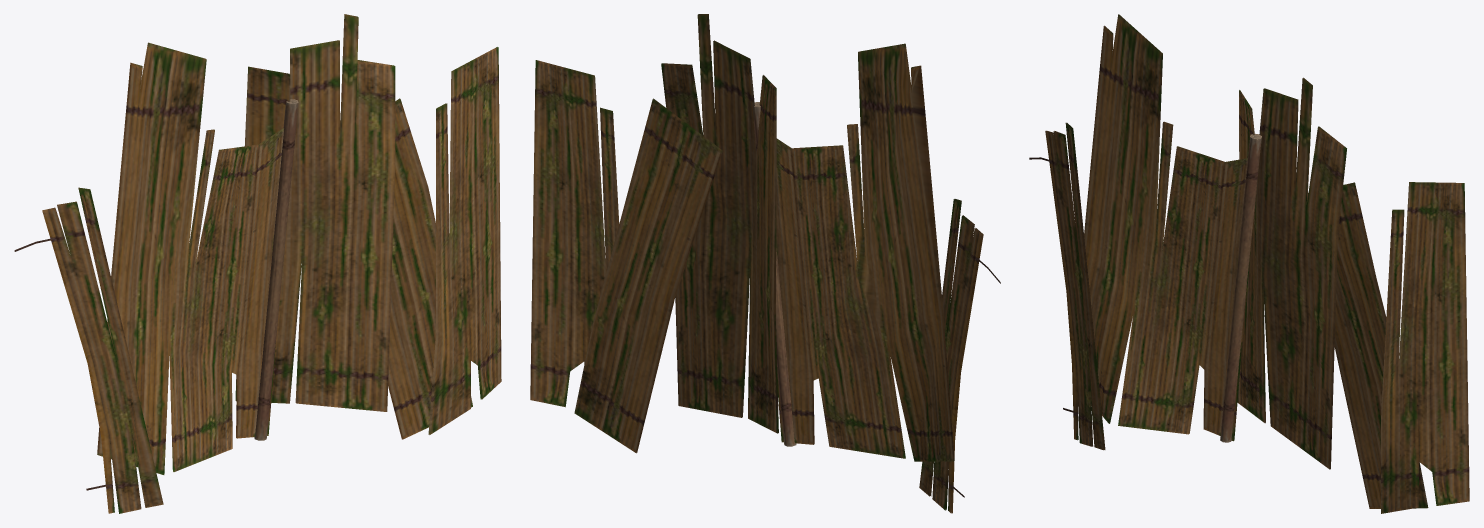
File: i_zx_zhuxi02_02.FBX
3 renders of one model, left to right at view 1: azimuth 30°, elevation 25°; view 2: azimuth 150°, elevation 25°; view 3: azimuth 330°, elevation 25°, orthographic. The views are drawn at different scales.
Visible parts, largest first — view 1: i_zx_zhuxi02_02; view 2: i_zx_zhuxi02_02; view 3: i_zx_zhuxi02_02.
Part boxes in pixels (x1,y1,x2,y2): i_zx_zhuxi02_02: (14,14,501,513); i_zx_zhuxi02_02: (530,14,1000,513); i_zx_zhuxi02_02: (1029,14,1469,513).
Bounding box in the file's own units: 3.44 × 3.21 × 0.435.
